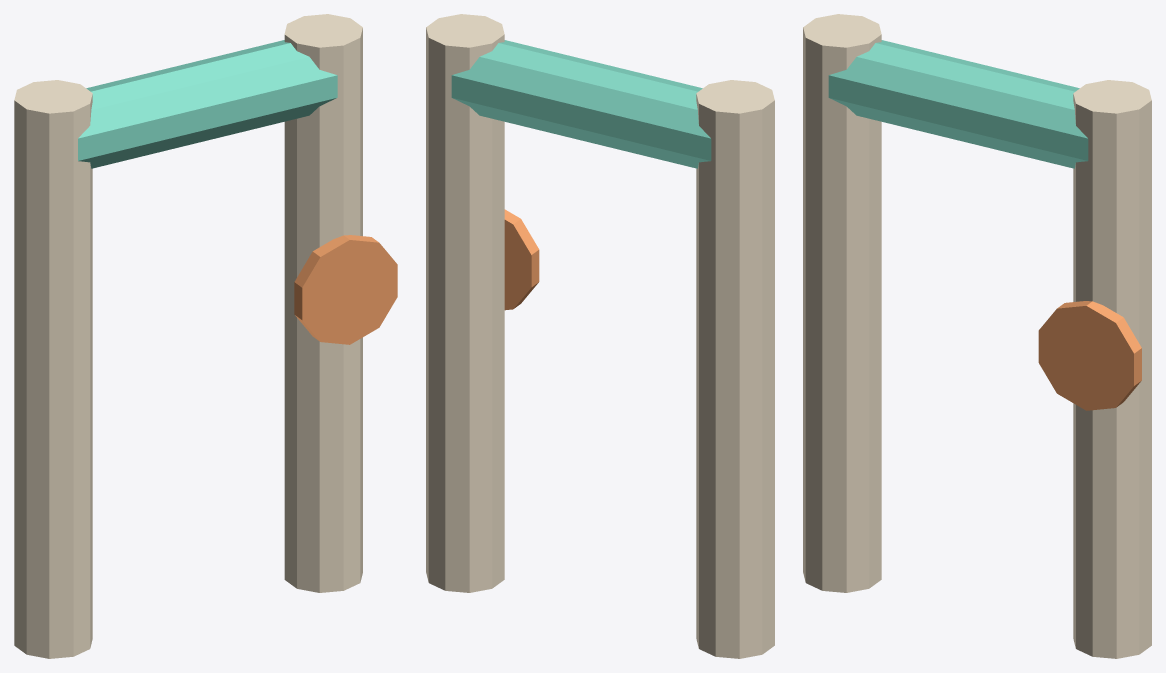
3 views of the same model, side by side, from view 1: azimuth 30°, elevation 25°; view 2: azimuth 150°, elevation 25°; view 3: azimuth 330°, elevation 25° (orthographic).
Visible parts, largest first — view 1: Pipe, Pipe.001, Cross pipe, Valve; view 2: Pipe, Pipe.001, Cross pipe, Valve; view 3: Pipe, Pipe.001, Cross pipe, Valve.
Part boxes in pixels (x1,y1,x2,y2): Pipe: [14, 80, 92, 658]; Pipe.001: [284, 14, 362, 592]; Cross pipe: [78, 40, 337, 168]; Valve: [294, 235, 397, 344]; Pipe: [696, 80, 774, 658]; Pipe.001: [426, 14, 504, 592]; Cross pipe: [451, 40, 711, 168]; Valve: [504, 209, 539, 310]; Pipe: [803, 14, 881, 592]; Pipe.001: [1073, 80, 1151, 658]; Cross pipe: [828, 40, 1088, 168]; Valve: [1038, 301, 1141, 410].
Size of the model in its own units: 90.92 by 135 by 20.75.
